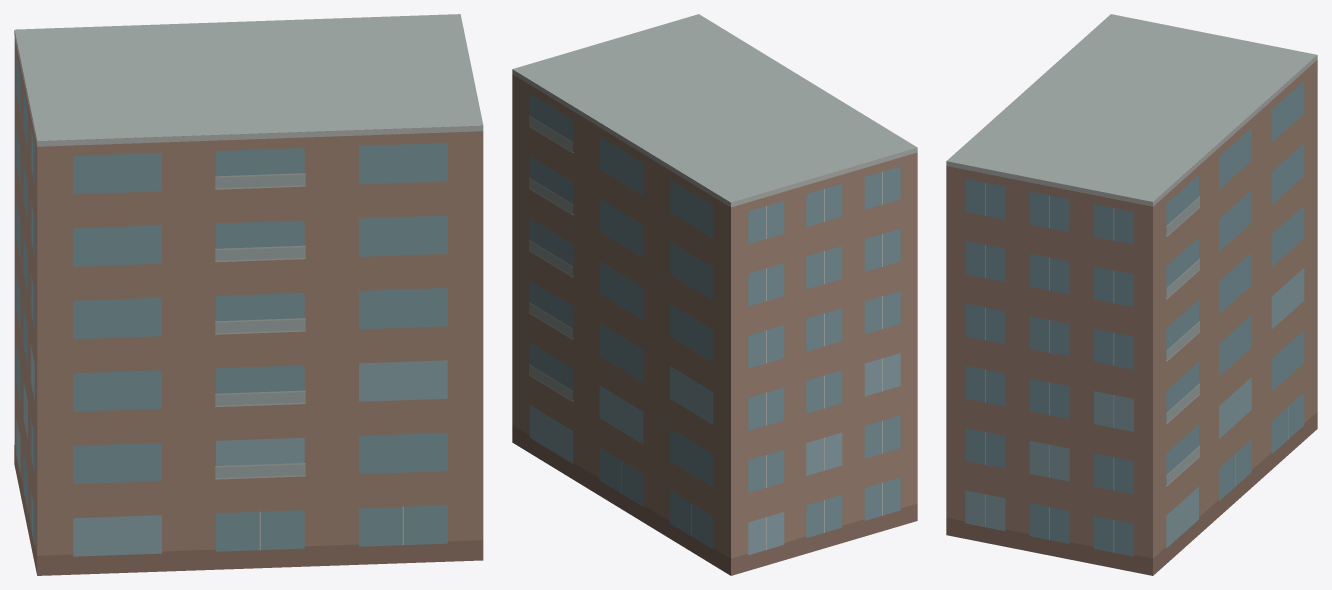
The model's file is survey-upis-32967627.glb.
3 views of the same model, side by side, from view 1: azimuth 30°, elevation 25°; view 2: azimuth 150°, elevation 25°; view 3: azimuth 270°, elevation 25° (orthographic). The views are drawn at different scales.
Visible parts, largest first — view 1: survey-upis-32967627.tmp; view 2: survey-upis-32967627.tmp; view 3: survey-upis-32967627.tmp.
Boxes of the visible parts, x1,y1,x2,y2 form: survey-upis-32967627.tmp: [14, 14, 483, 575]; survey-upis-32967627.tmp: [512, 14, 917, 575]; survey-upis-32967627.tmp: [946, 14, 1317, 575].
Bounding box in the file's own units: 20.44 × 18.95 × 17.06.
